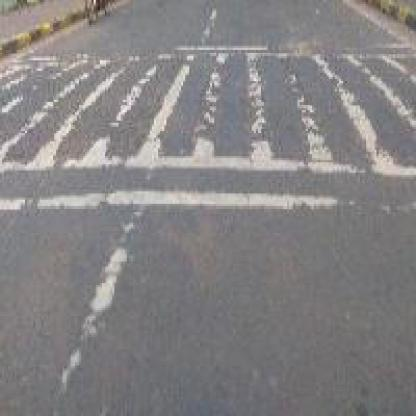Speed Bump: (0, 50, 414, 216)
